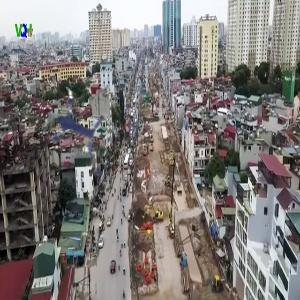drone: (30, 86, 110, 166)
